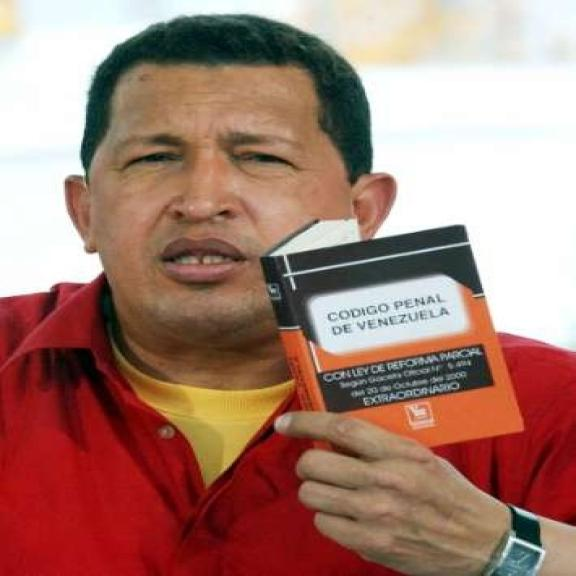face: (62, 47, 406, 349)
